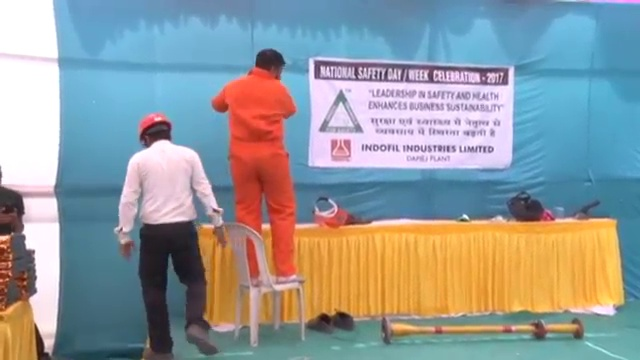helmet: (137, 110, 174, 134)
helmet_off: (251, 47, 287, 84)
helmet_on: (137, 111, 176, 149)
person: (112, 108, 225, 360), (214, 45, 308, 286)
